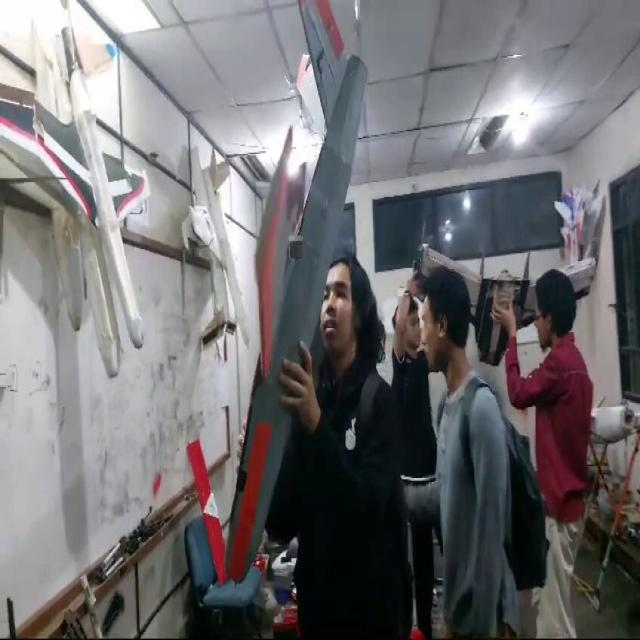plane: (194, 0, 405, 611)
